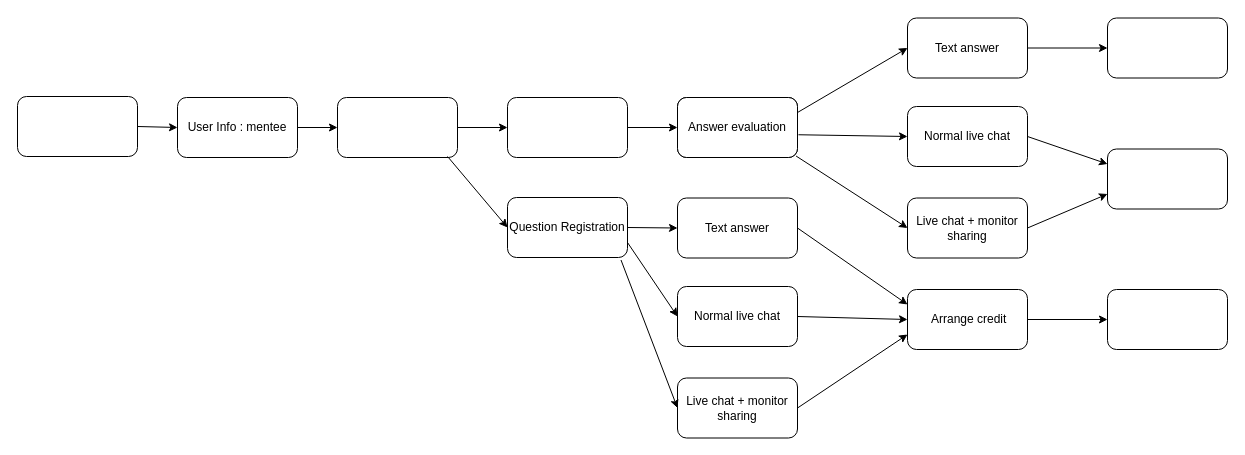
Image size: 1245x455. Some labels were removed from this diagram. The shapes that lost their labels are listed below. From the top down, each one's centre as x and y in pixels, then its label:
At (x=1167, y=47): "Evaluation with star and text".
At (x=77, y=126): "Main".
At (x=397, y=127): "Questionlist".
At (x=567, y=127): "Questionview".
At (x=1167, y=178): "Evaluation page after answering".
At (x=1167, y=319): "Complete Registration".
